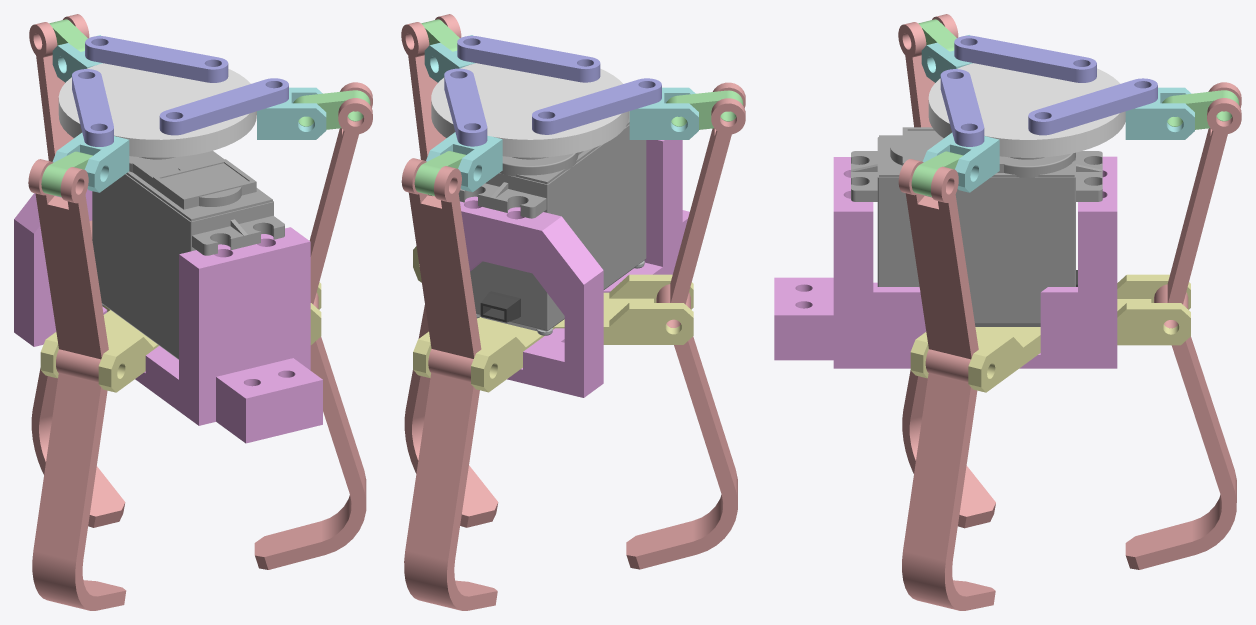
The model's file is gripper.glb.
3 views of the same model, side by side, from view 1: azimuth 30°, elevation 25°; view 2: azimuth 150°, elevation 25°; view 3: azimuth 270°, elevation 25° (orthographic).
Parts seen in each view (by area): view 1: Servo case-1, GripperFinger-3, TZT MG 996R Servo Motor-1, GripperFinger-2, Tavola rotante-1, GripperFinger-1, GripperHexBase-1, Braccio2-1, Braccio2-2, Braccio1-4, Braccio2-4, Braccio1-6 (+4 smaller); view 2: GripperFinger-1, Servo case-1, TZT MG 996R Servo Motor-1, GripperFinger-3, Tavola rotante-1, GripperHexBase-1, GripperFinger-2, Braccio2-2, Braccio2-4, Braccio1-6, Braccio2-1, Braccio1-1 (+4 smaller); view 3: Servo case-1, TZT MG 996R Servo Motor-1, GripperFinger-2, GripperFinger-1, Tavola rotante-1, GripperHexBase-1, GripperFinger-3, Braccio2-4, Braccio2-1, Braccio1-1, Braccio2-2, Braccio1-4 (+4 smaller).
Part boxes in pixels (box(x1,y1,x2,y2)): Servo case-1: box(14, 189, 322, 443); GripperFinger-3: box(28, 159, 126, 610); TZT MG 996R Servo Motor-1: box(92, 150, 284, 359); GripperFinger-2: box(254, 82, 372, 569); Tavola rotante-1: box(58, 63, 256, 157); GripperFinger-1: box(29, 14, 125, 527); GripperHexBase-1: box(40, 282, 321, 392); Braccio2-1: box(85, 36, 228, 82); Braccio2-2: box(159, 78, 288, 135); Braccio1-4: box(257, 87, 326, 139); Braccio2-4: box(72, 69, 113, 146); Braccio1-6: box(52, 132, 129, 192); GripperFinger-1: box(401, 158, 497, 610); Servo case-1: box(460, 140, 689, 397); TZT MG 996R Servo Motor-1: box(458, 111, 646, 335); GripperFinger-3: box(626, 82, 745, 569); Tavola rotante-1: box(431, 63, 628, 157); GripperHexBase-1: box(413, 246, 693, 392); GripperFinger-2: box(401, 14, 498, 527); Braccio2-2: box(457, 35, 600, 82); Braccio2-4: box(532, 78, 661, 134); Braccio1-6: box(629, 87, 698, 139); Braccio2-1: box(444, 68, 487, 146); Braccio1-1: box(426, 132, 502, 192); Servo case-1: box(774, 156, 1117, 368); TZT MG 996R Servo Motor-1: box(851, 127, 1102, 326); GripperFinger-2: box(898, 159, 995, 610); GripperFinger-1: box(1125, 82, 1241, 569); Tavola rotante-1: box(928, 63, 1125, 157); GripperHexBase-1: box(910, 274, 1190, 392); GripperFinger-3: box(898, 14, 995, 528); Braccio2-4: box(954, 35, 1096, 82); Braccio2-1: box(1028, 78, 1157, 135); Braccio1-1: box(1125, 87, 1194, 139); Braccio2-2: box(940, 69, 984, 146); Braccio1-4: box(922, 132, 999, 192).
Size of the model in its own units: 0.0803 by 0.1064 by 0.0944.
